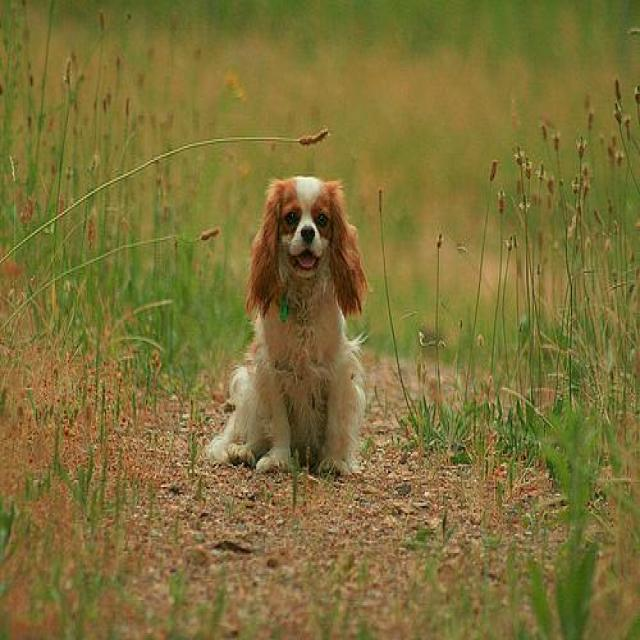sitting: (206, 171, 373, 483)
